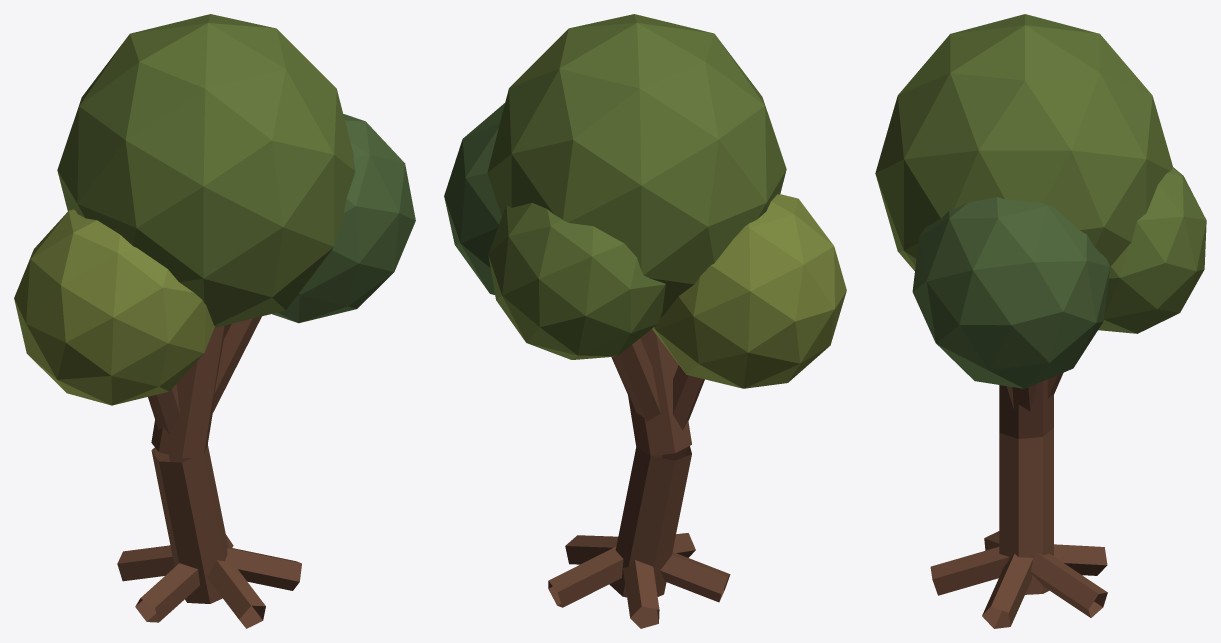
The picture shows the model from 3 angles, left to right: view 1: azimuth 30°, elevation 25°; view 2: azimuth 150°, elevation 25°; view 3: azimuth 270°, elevation 25°; orthographic projection.
Visible parts, largest first — view 1: T13_生命树·舒枝; view 2: T13_生命树·舒枝; view 3: T13_生命树·舒枝.
Boxes of the visible parts, x1,y1,x2,y2 form: T13_生命树·舒枝: (14, 14, 415, 628); T13_生命树·舒枝: (444, 14, 846, 628); T13_生命树·舒枝: (875, 14, 1206, 628).
Size of the model in its own units: 2.42 by 3.5 by 1.84.
